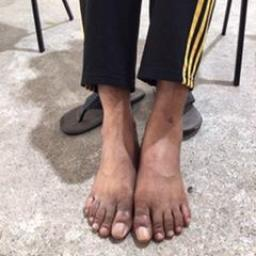Front View -Both Feet-: (78, 68, 198, 246)
